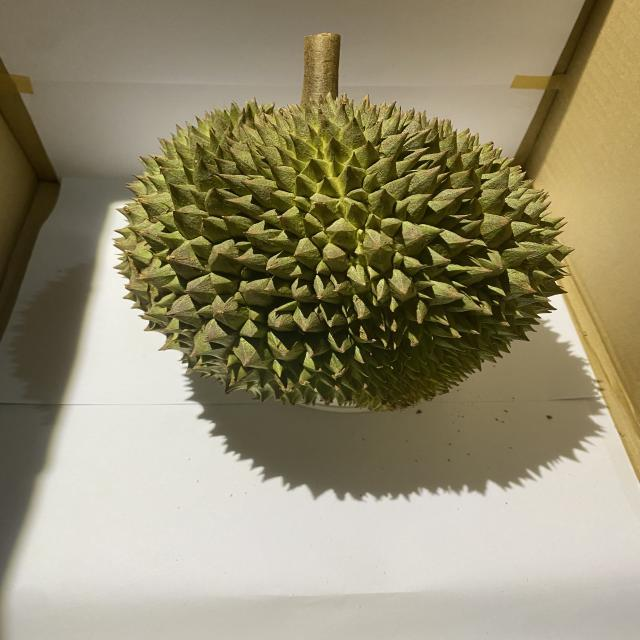immature: (110, 91, 574, 415)
